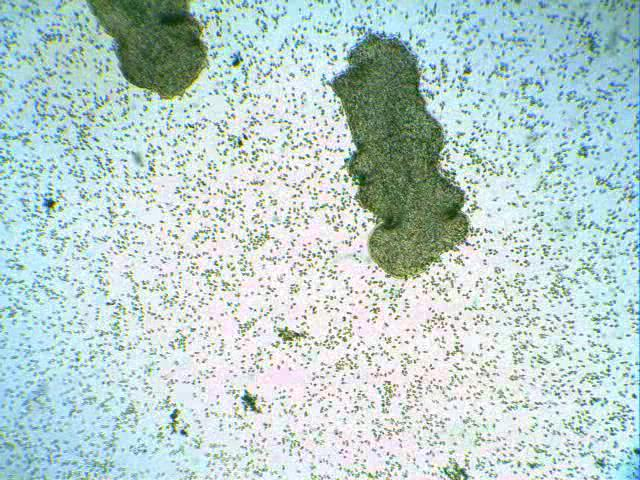Placozoan: (330, 31, 469, 278), (85, 0, 209, 100)
